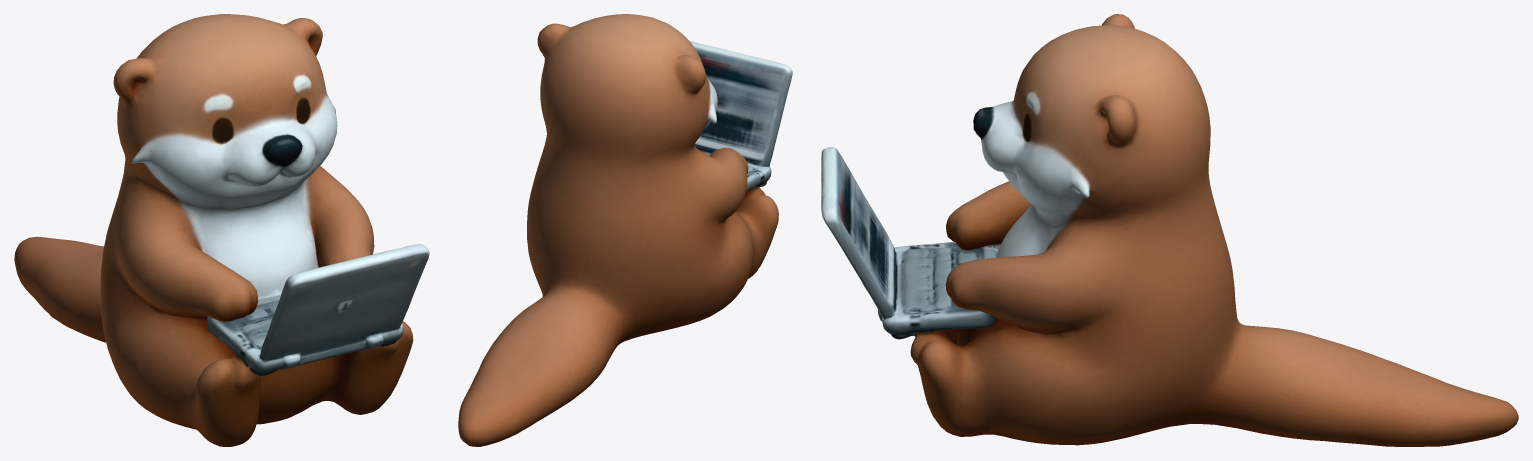
The model's file is otter.glb.
The picture shows the model from 3 angles, left to right: view 1: azimuth 30°, elevation 25°; view 2: azimuth 150°, elevation 25°; view 3: azimuth 270°, elevation 25°; orthographic projection. The views are drawn at different scales.
Parts seen in each view (by area): view 1: geometry_0; view 2: geometry_0; view 3: geometry_0.
Part boxes in pixels (x1=…): geometry_0: x1=14, y1=14, x2=429, y2=446; geometry_0: x1=458, y1=14, x2=792, y2=446; geometry_0: x1=821, y1=14, x2=1518, y2=446.
Bounding box in the file's own units: 0.4055 × 0.6298 × 0.9999.
1 material, 1 textured.
